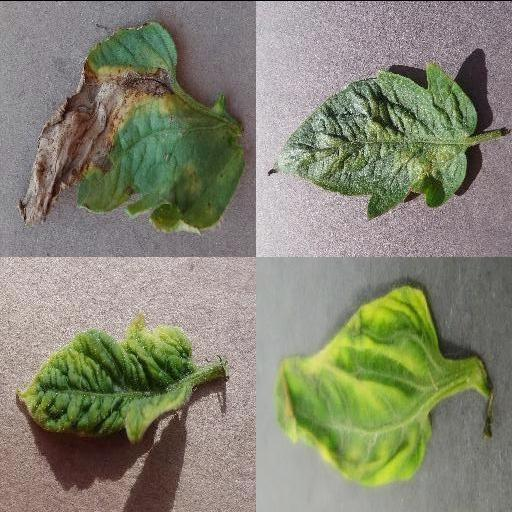Early Blight: (18, 19, 250, 231)
Spider Mites: (266, 59, 476, 217)
Yellow Leaf Curl Virus: (275, 283, 441, 484), (15, 312, 195, 442)
